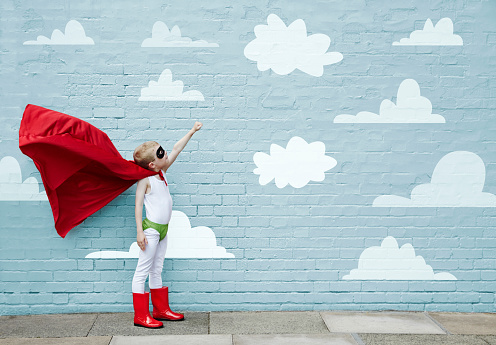em pe: (117, 126, 202, 317)
